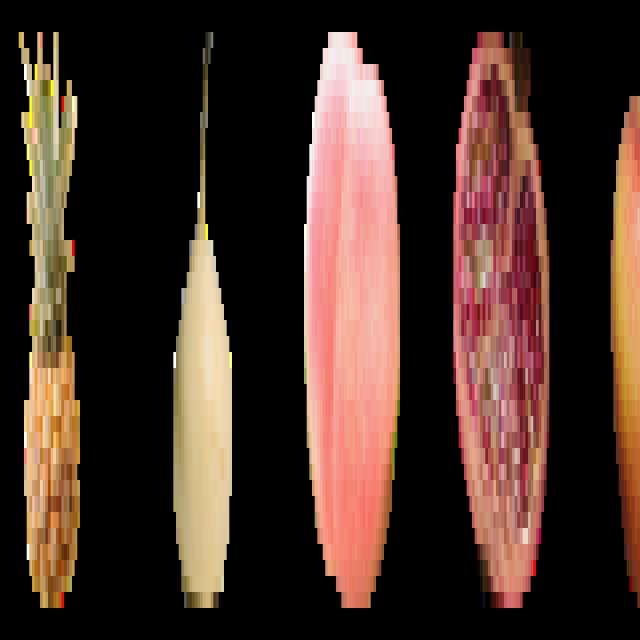peach: (305, 9, 404, 624)
pear: (166, 6, 239, 628)
pineapples: (10, 6, 93, 629)
pomegranate: (447, 6, 560, 632)
